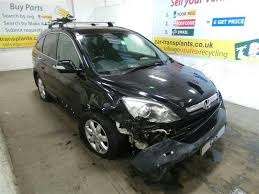Broken-glass: (121, 94, 183, 125)
Dent: (79, 86, 117, 112)
Smashed: (112, 115, 237, 176)
